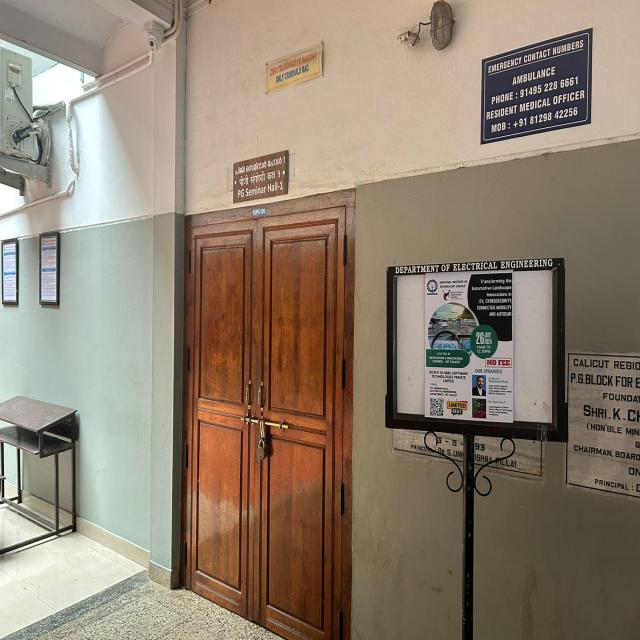Door ahead at: (191, 212, 342, 633)
barrier ahead at: (382, 251, 567, 640)
